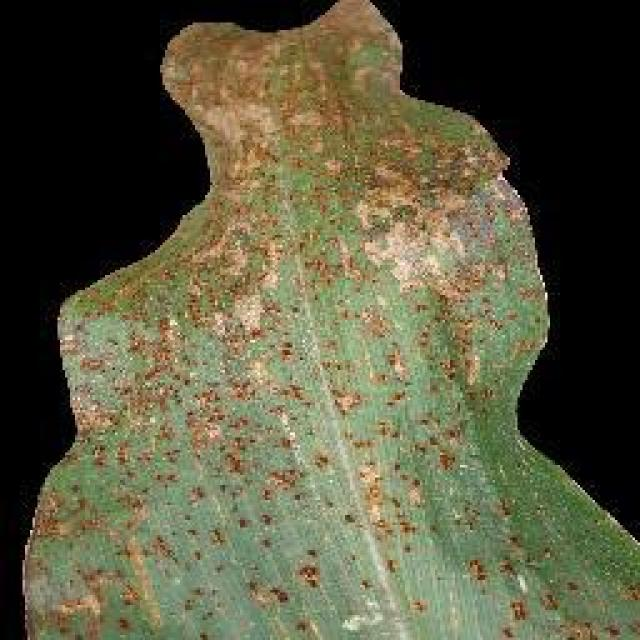Corn Common Rust: (116, 25, 502, 473)
